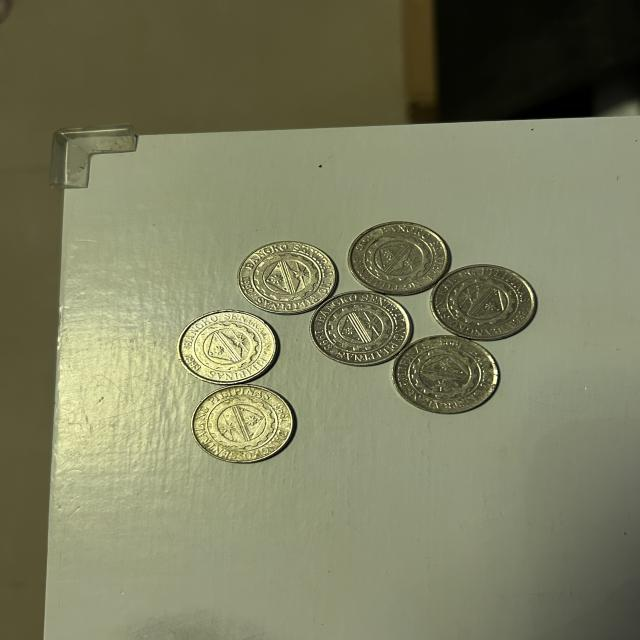1_Old_Back: (407, 342, 488, 406), (441, 275, 525, 332), (201, 398, 286, 451), (325, 300, 400, 359), (188, 320, 266, 374), (358, 232, 437, 284), (250, 253, 320, 305)
